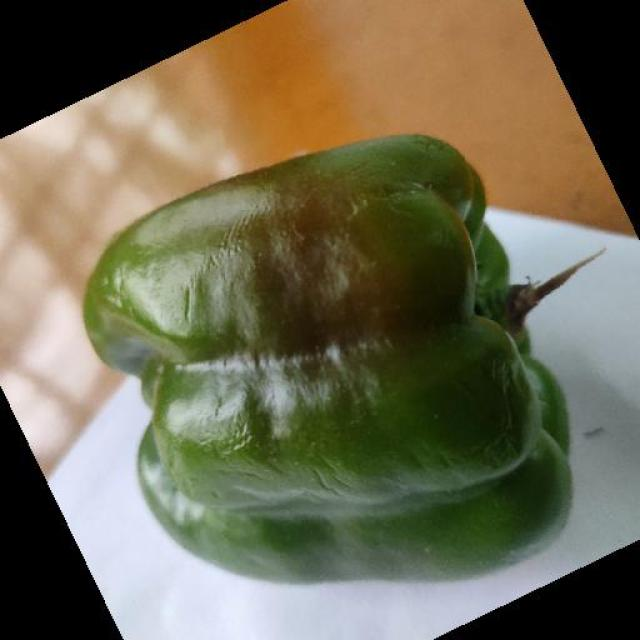Stale_Capsicum: (113, 139, 545, 595)
